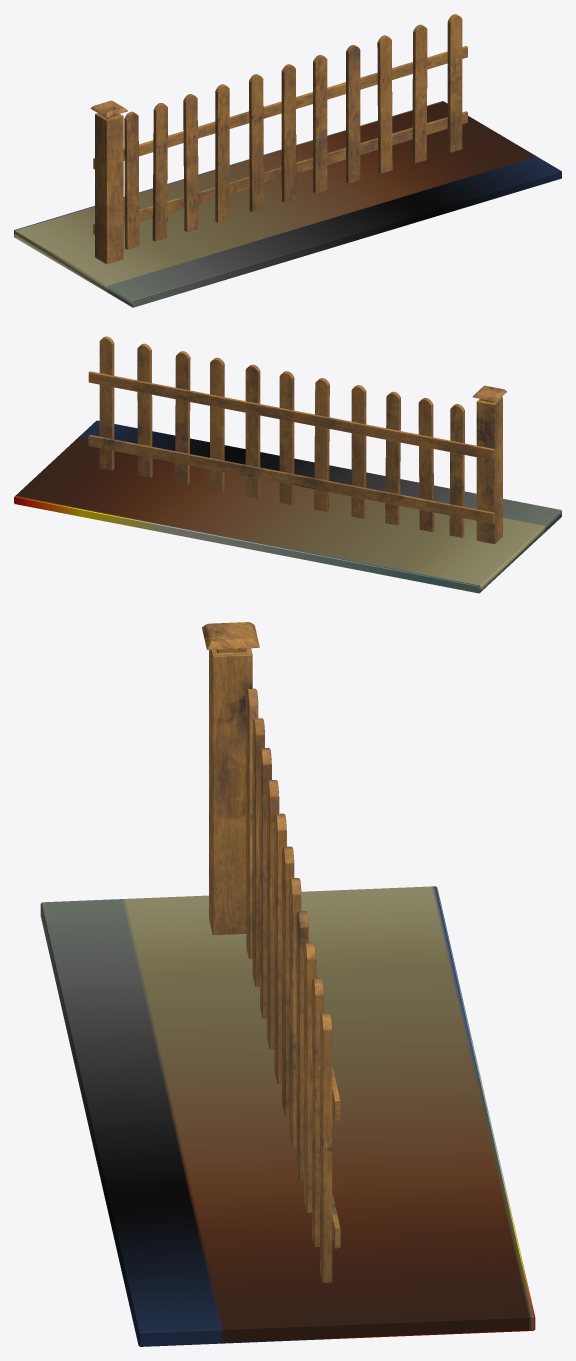
The picture shows the model from 3 angles, top to bottom: view 1: azimuth 30°, elevation 25°; view 2: azimuth 150°, elevation 25°; view 3: azimuth 270°, elevation 25°; orthographic projection. The views are drawn at different scales.
Visible parts, largest first — view 1: ground, fence; view 2: ground, fence; view 3: ground, fence.
Part boxes in pixels (box(x1,y1,x2,y2)): ground: box(14, 101, 561, 307); fence: box(90, 14, 467, 264); ground: box(14, 420, 561, 593); fence: box(88, 336, 506, 543); ground: box(40, 886, 535, 1346); fence: box(202, 622, 340, 1282).
Bounding box in the file's own units: 2195 × 710 × 1027.
